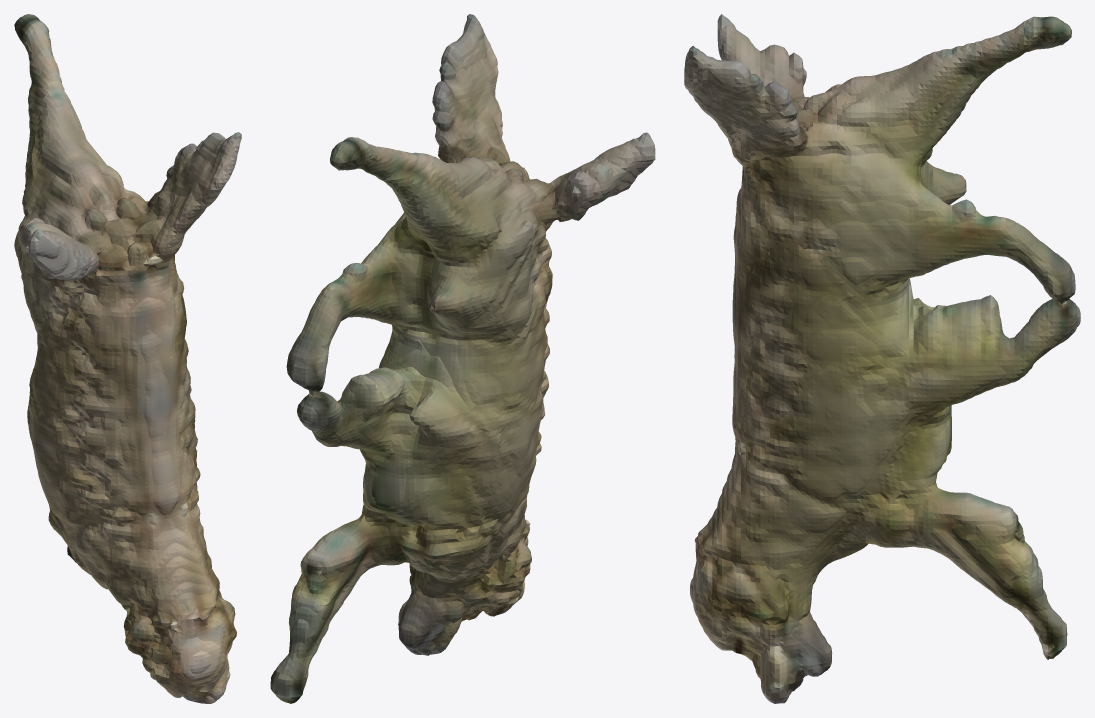
3 renders of one model, left to right at view 1: azimuth 30°, elevation 25°; view 2: azimuth 150°, elevation 25°; view 3: azimuth 270°, elevation 25°, orthographic. The views are drawn at different scales.
Parts seen in each view (by area): view 1: world; view 2: world; view 3: world.
Boxes of the visible parts, x1,y1,x2,y2 form: world: [14, 14, 241, 703]; world: [270, 14, 655, 703]; world: [684, 14, 1080, 703].
Size of the model in its own units: 0.4055 by 1.03 by 0.5644.
